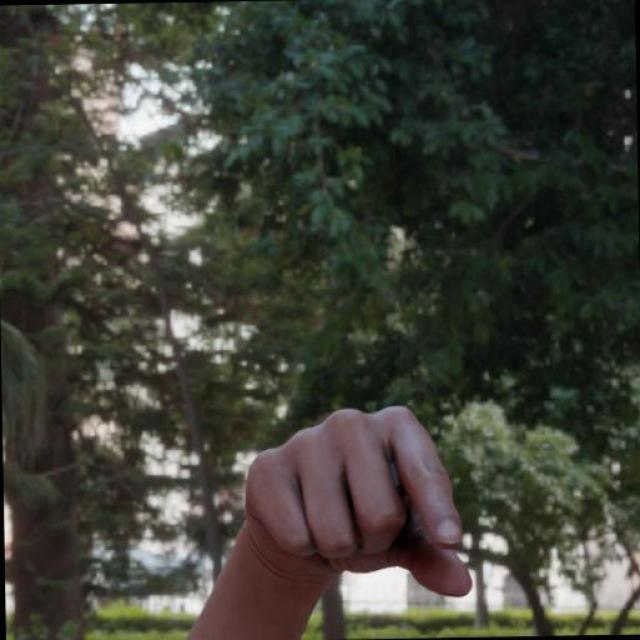Q: (237, 400, 477, 604)
